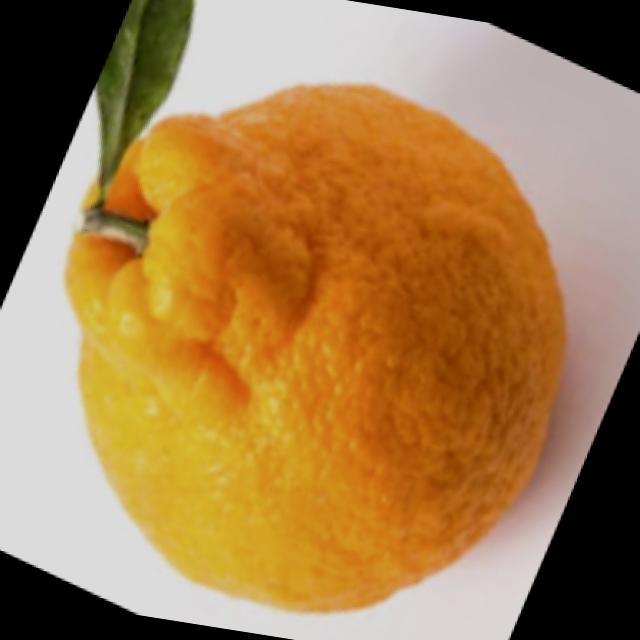orange: (25, 36, 615, 640)
